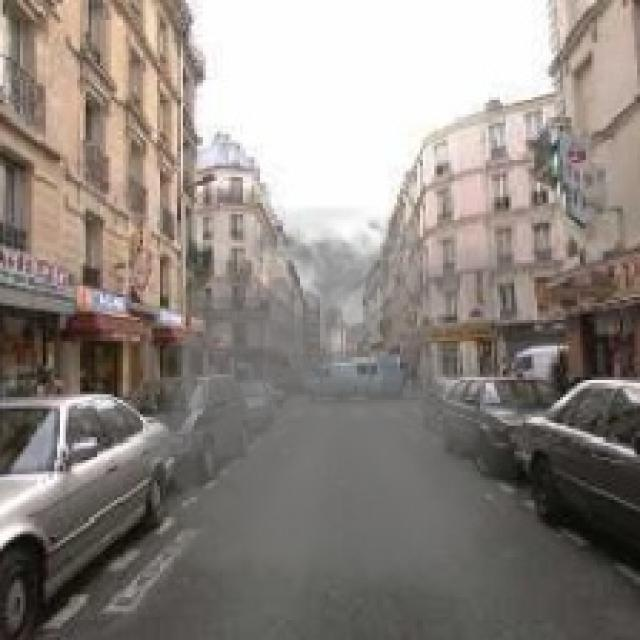Smoke: (117, 205, 517, 598)
